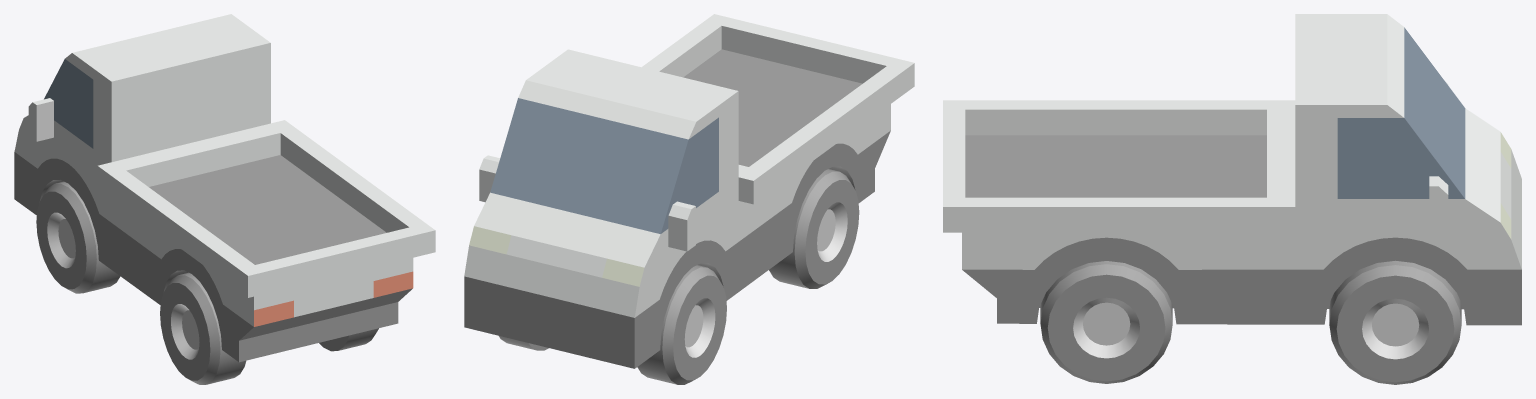
The model's file is carTruckFlat.gltf.
The picture shows the model from 3 angles, left to right: view 1: azimuth 30°, elevation 25°; view 2: azimuth 150°, elevation 25°; view 3: azimuth 270°, elevation 25°; orthographic projection. The views are drawn at different scales.
Parts seen in each view (by area): view 1: body 13, wheelBackLeft 13, wheelFrontLeft 13, wheelBackRight 13; view 2: body 13, wheelBackLeft 13, wheelFrontLeft 13; view 3: body 13, wheelFrontRight 13, wheelBackRight 13.
Boxes of the visible parts, x1,y1,x2,y2 form: body 13: [14, 14, 435, 362]; wheelBackLeft 13: [160, 272, 246, 384]; wheelFrontLeft 13: [36, 181, 120, 293]; wheelBackRight 13: [319, 328, 378, 351]; body 13: [464, 14, 914, 368]; wheelBackLeft 13: [769, 169, 859, 288]; wheelFrontLeft 13: [637, 265, 726, 384]; body 13: [943, 14, 1521, 325]; wheelFrontRight 13: [1329, 260, 1461, 384]; wheelBackRight 13: [1040, 261, 1172, 383].
Size of the model in its own units: 0.555 by 0.6566 by 1.23.
